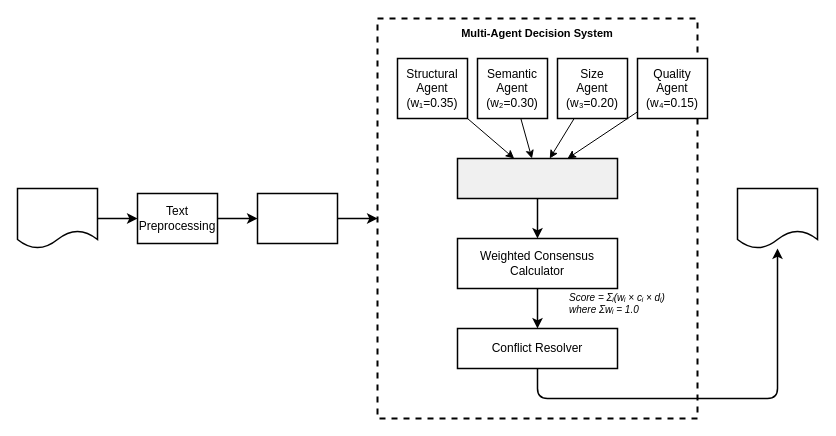
The diagram is 836 pixels wide and 436 high, and some of its shapes have lost their labels. The shapes that lost their labels are listed below. From the top down, each one's box as (x1, y1, x2, y2) in pixels, then its label:
(456, 157, 618, 199): Coordinator Agent
(16, 187, 98, 249): Document
(256, 192, 338, 244): Segment Extractor
(736, 187, 818, 249): Chunked Output
